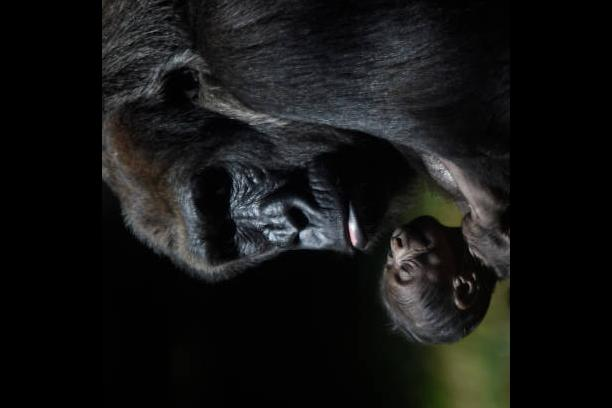gorille_Autres: (103, 0, 385, 304)
